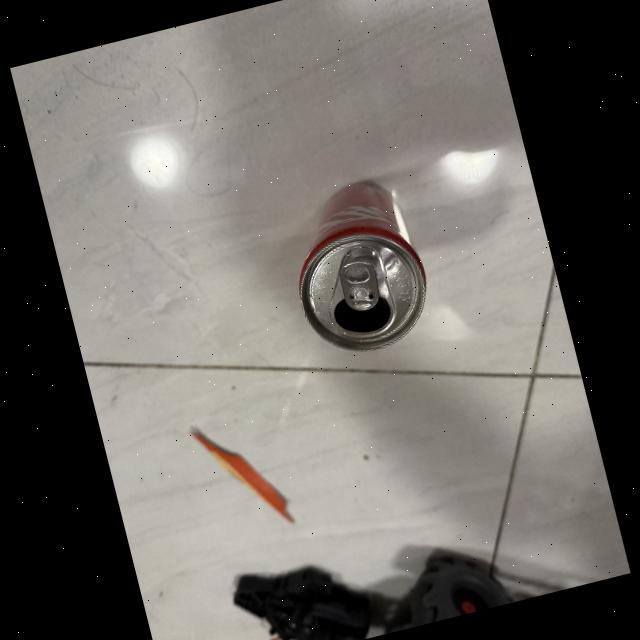Cola: (262, 150, 456, 380)
